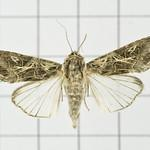Spodoptera litura: (1, 19, 149, 129)
